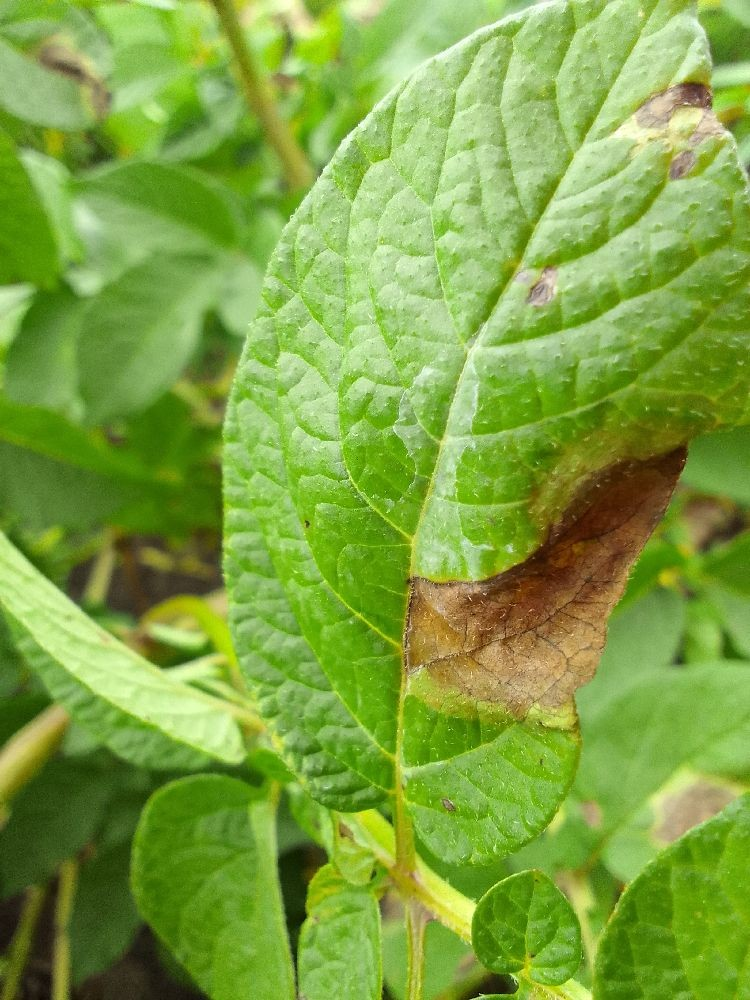late_blight: (383, 415, 749, 737), (0, 808, 225, 1000), (43, 504, 245, 683), (648, 776, 738, 850)
